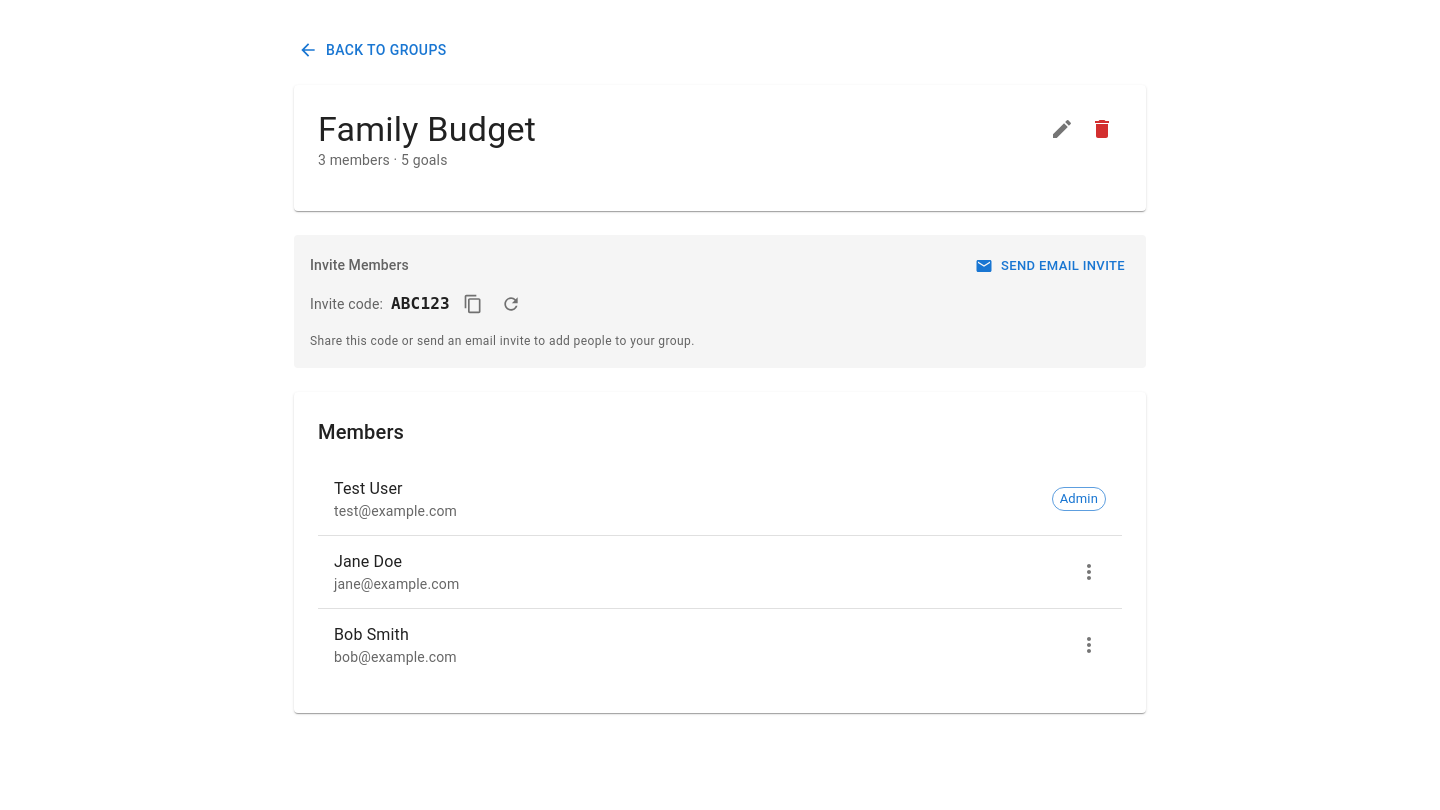
Scenario: GroupDetail › error handling › shows error when update fails
Expected: the heading "Family Budget" is shown, x1=318 y1=108 x2=536 y2=150
Click the button named "Edit group" at x=1062, y=128, box x1=1042 y1=108 x2=1082 y2=148
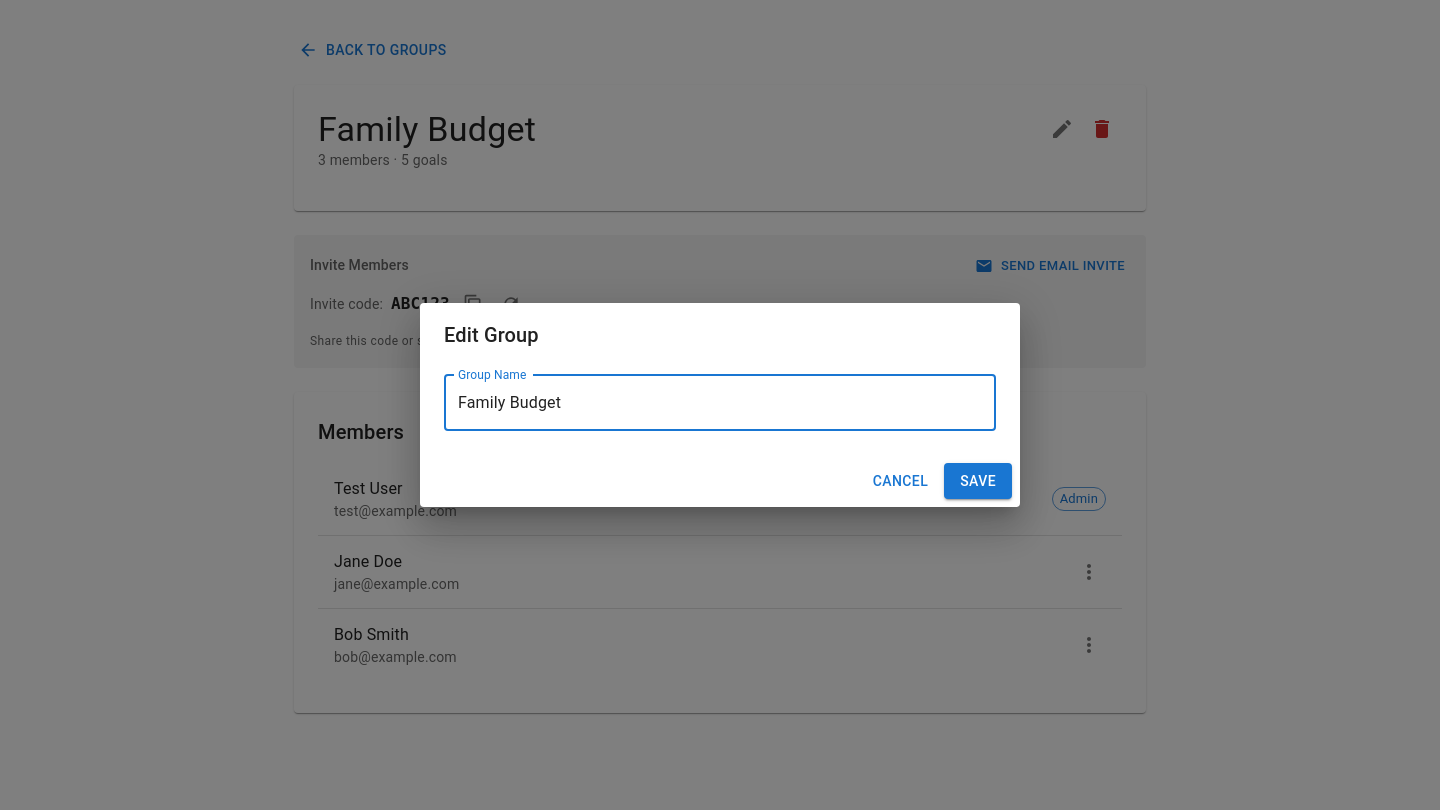
Now the field labelled "Group Name" is shown
Replace the text in the field labelled "Group Name" with "New Name" at x=720, y=403, box x1=444 y1=375 x2=996 y2=431
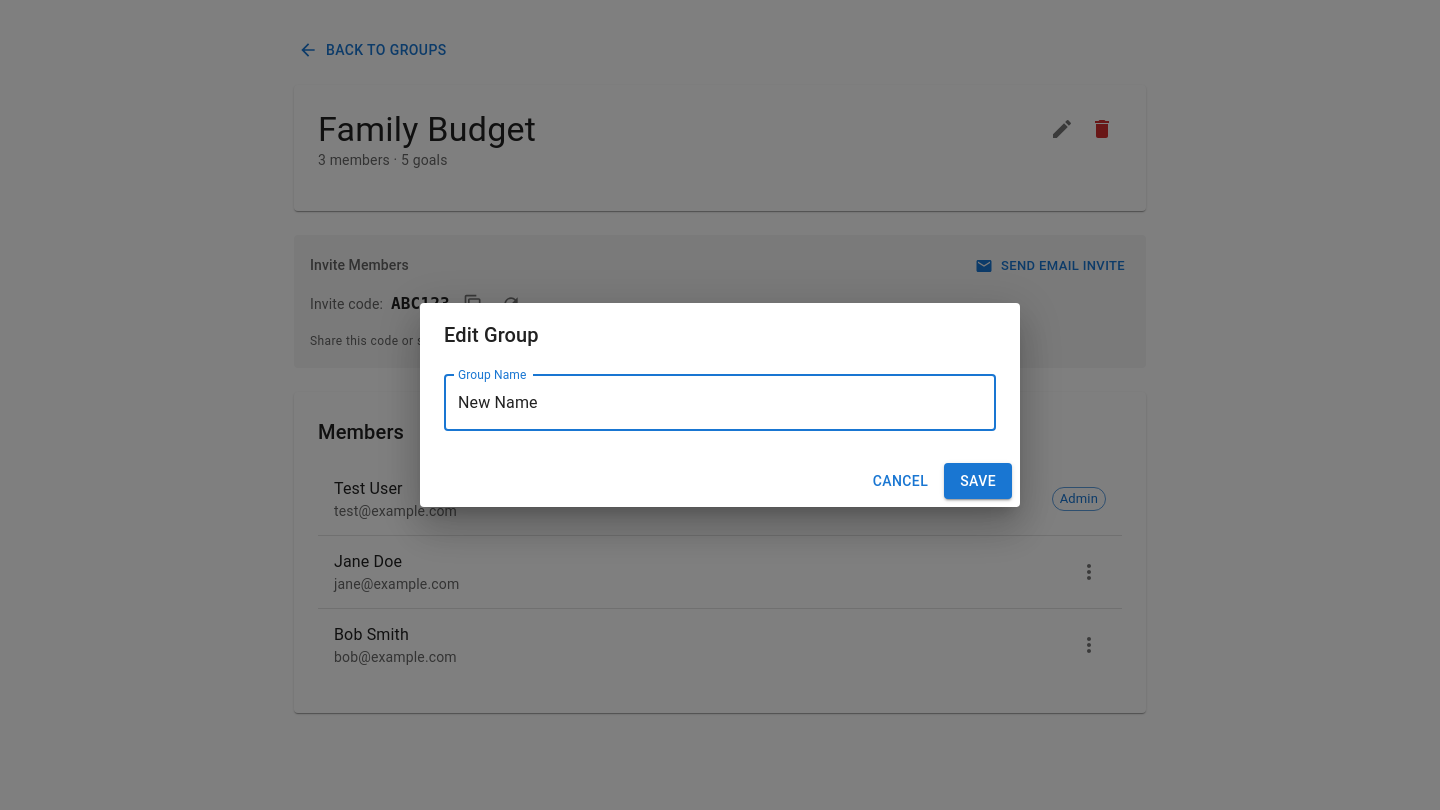
Click the button "Save" at x=978, y=481, box x1=944 y1=463 x2=1012 y2=499
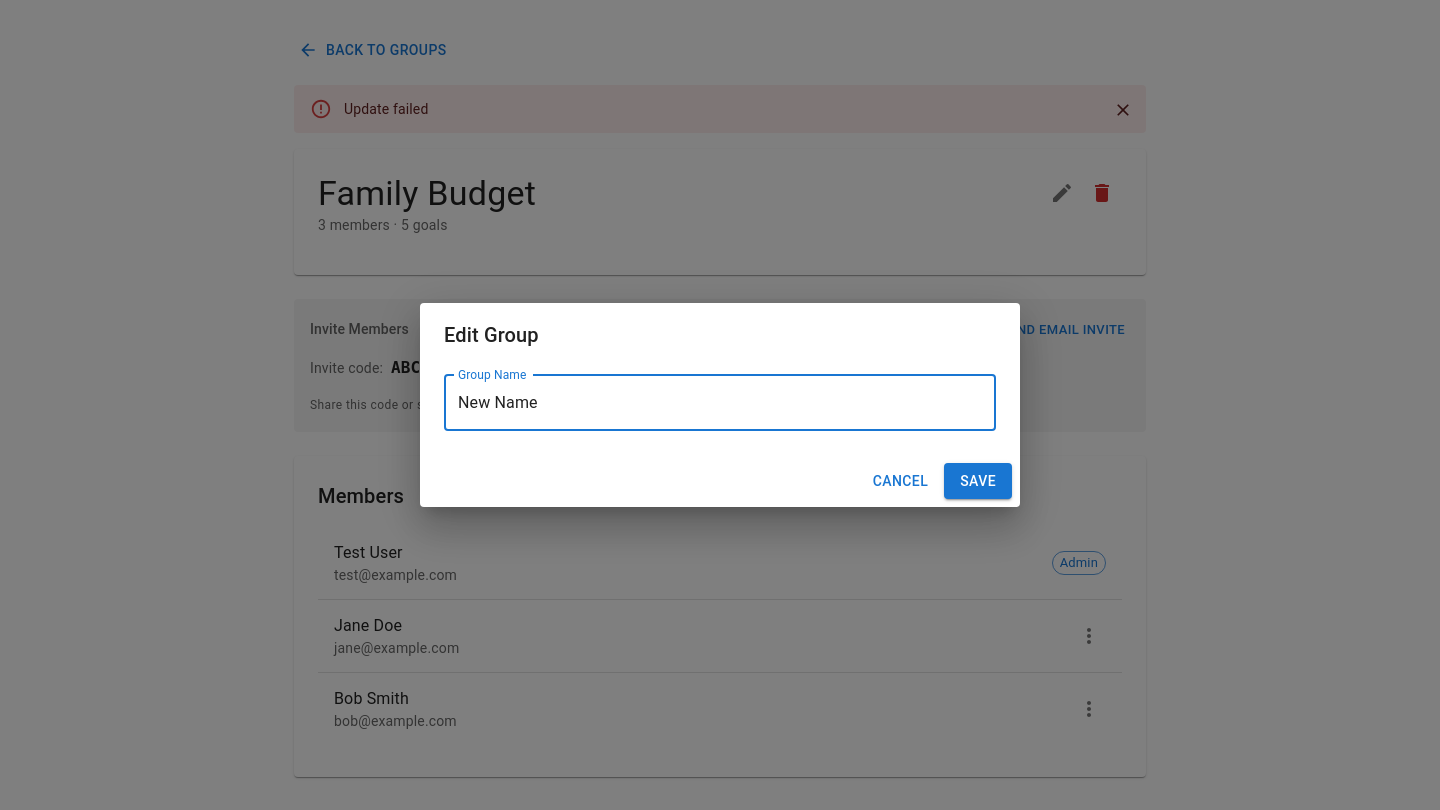
Now the text "Update failed" is shown, box x1=344 y1=100 x2=428 y2=116
